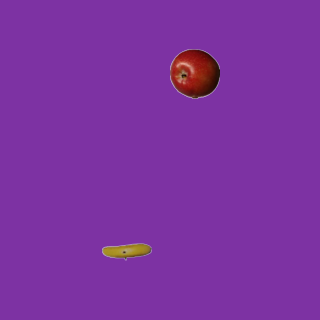Apple Braeburn: (169, 48, 219, 98)
Banana: (101, 226, 151, 276)
